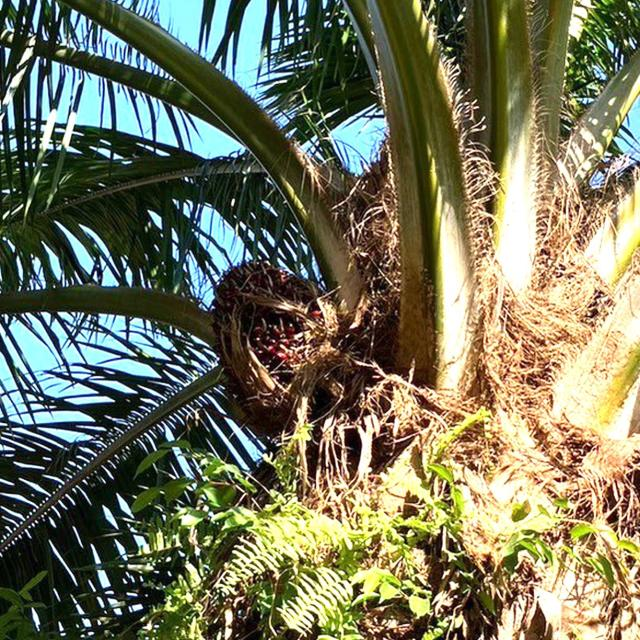ripe: (202, 247, 351, 442)
